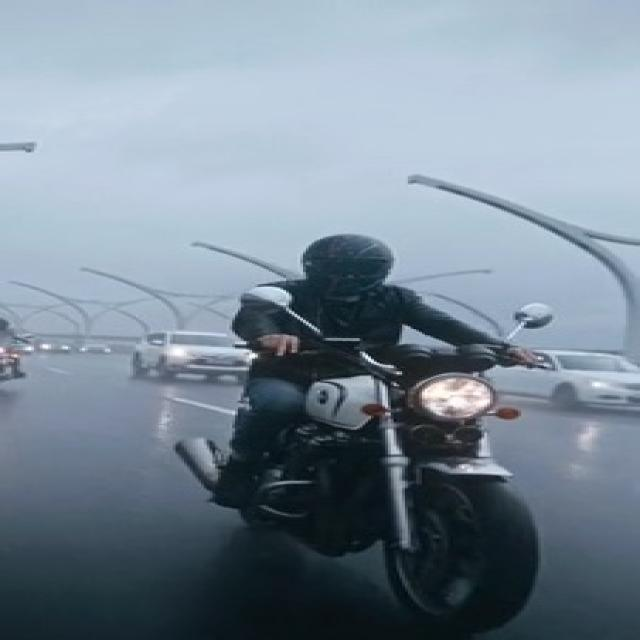Helmet_Wearer: (276, 235, 426, 298)
Jacket_Wearer: (219, 282, 531, 384)
Person: (209, 233, 535, 498)
